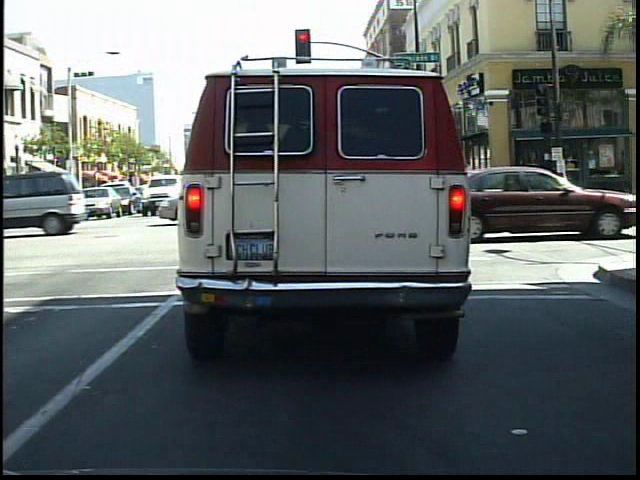person: (538, 152, 562, 205), (513, 156, 533, 202)
